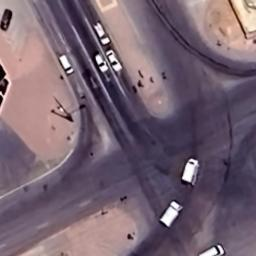SUV: (94, 22, 112, 46)
sedan: (104, 49, 124, 73), (0, 8, 14, 32), (95, 54, 109, 72)
truck: (158, 200, 182, 228)
van: (181, 158, 200, 186), (58, 53, 74, 76), (198, 243, 226, 256)
